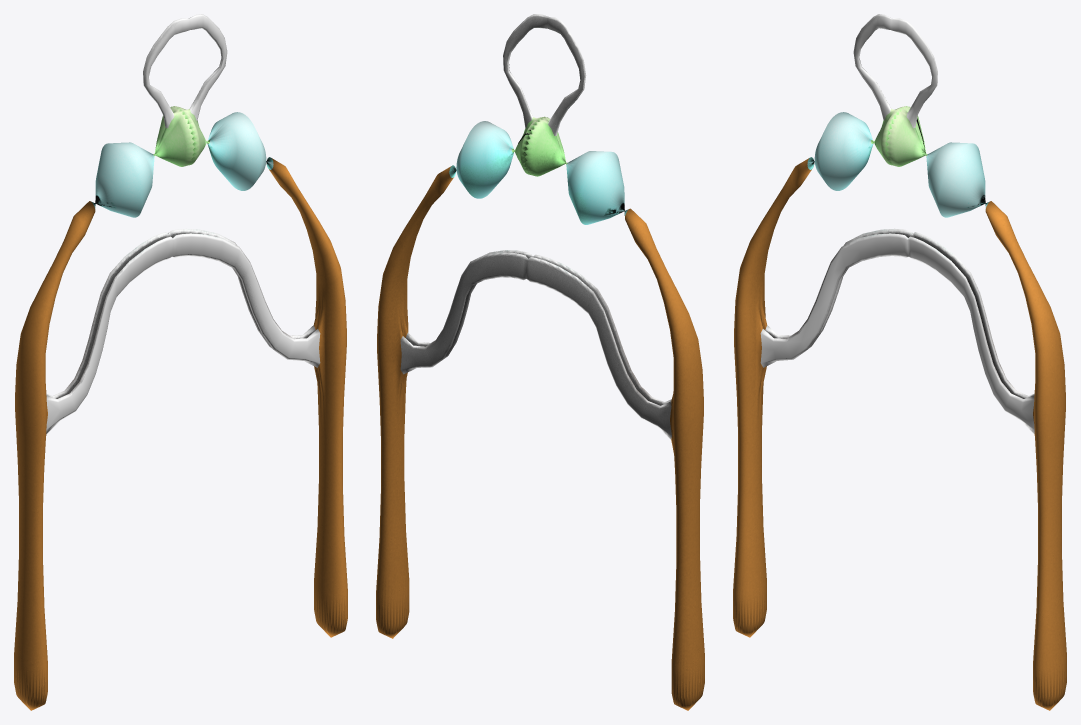
File: gate.obj
The picture shows the model from 3 angles, left to right: view 1: azimuth 30°, elevation 25°; view 2: azimuth 150°, elevation 25°; view 3: azimuth 330°, elevation 25°; orthographic projection.
Visible parts, largest first — view 1: Cylinder; view 2: Cylinder; view 3: Cylinder.
Boxes of the visible parts, box(x1,y1,x2,y2) form: Cylinder: box(14, 14, 347, 710); Cylinder: box(376, 14, 704, 710); Cylinder: box(733, 14, 1066, 710).
Size of the model in its own units: 1.99 by 3.9 by 0.4314.
4 materials, 4 textured.
